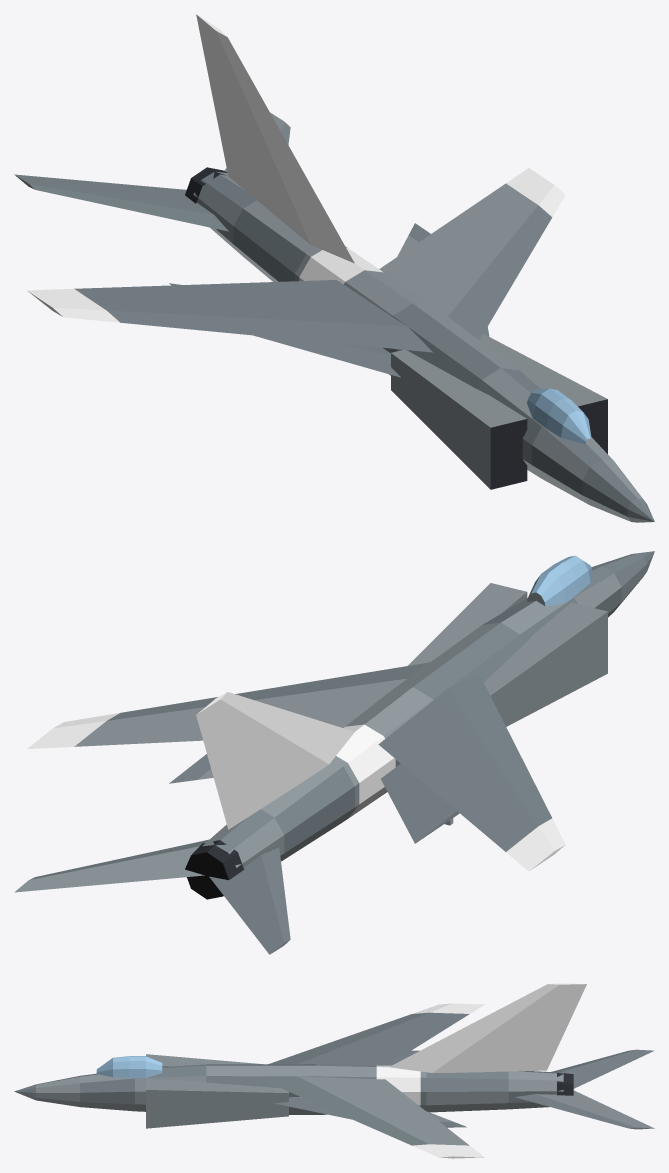
The model's file is mig23mld.glb.
3 renders of one model, top to bottom at view 1: azimuth 30°, elevation 25°; view 2: azimuth 150°, elevation 25°; view 3: azimuth 270°, elevation 25°, orthographic. The views are drawn at different scales.
Visible parts, largest first — view 1: body; view 2: body; view 3: body.
Part boxes in pixels (x1,y1,x2,y2): body: [14, 14, 654, 522]; body: [14, 551, 654, 954]; body: [14, 983, 654, 1158].
Bounding box in the file's own units: 11 × 4.34 × 19.47.
